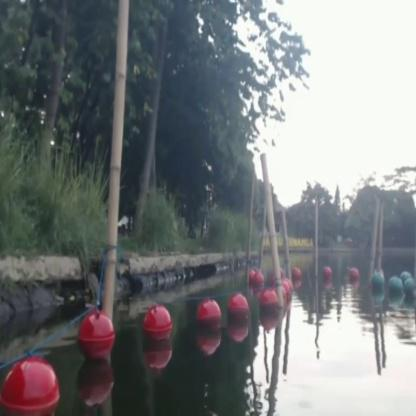green_buoy: (386, 276, 402, 304), (372, 273, 384, 296), (405, 278, 415, 304)
red_buoy: (1, 360, 58, 415), (78, 316, 112, 362), (144, 306, 166, 347), (228, 290, 249, 331), (199, 297, 219, 335), (258, 297, 277, 326), (280, 278, 290, 304), (290, 264, 302, 285), (346, 269, 358, 287), (252, 273, 262, 293), (323, 265, 330, 283)
